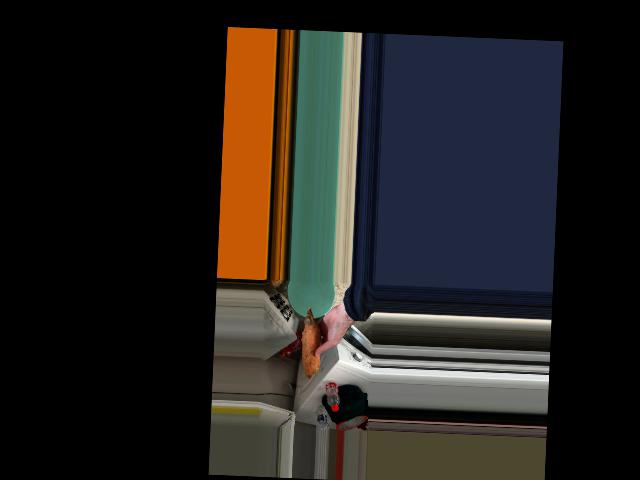sweet_potato: (301, 313, 324, 370)
